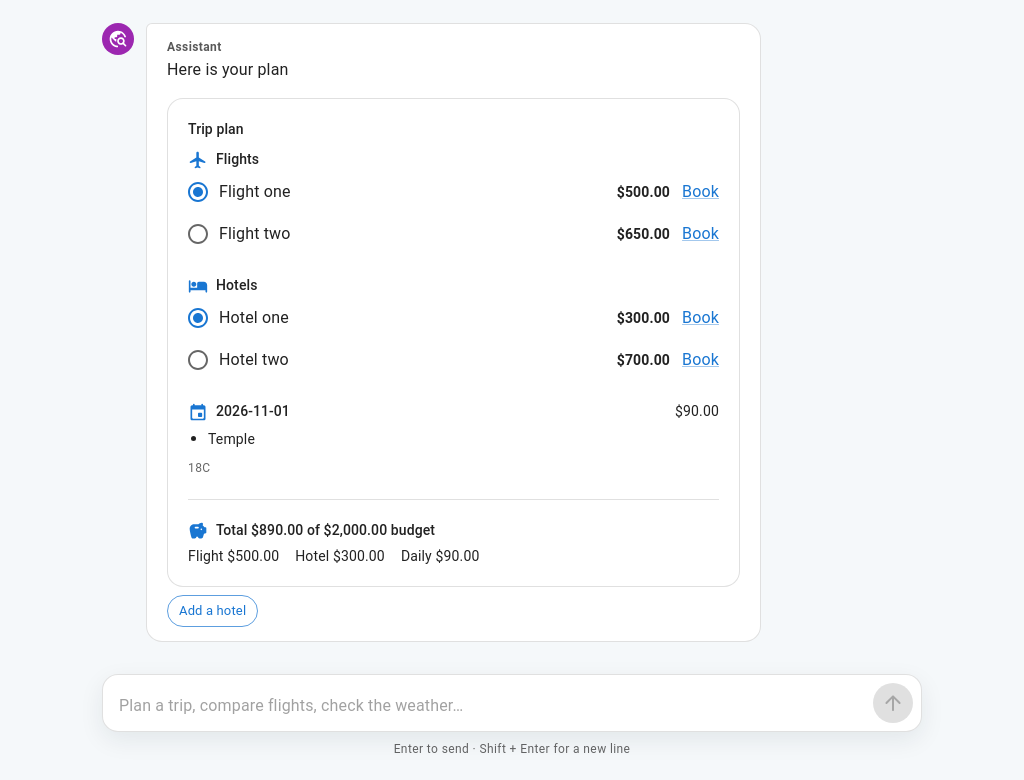
Test: ChatPage plan card › sends a plain pill without an action
(page scrolled)
Click the button "Add a hotel".
click(213, 611)  # box [167,595,258,627]
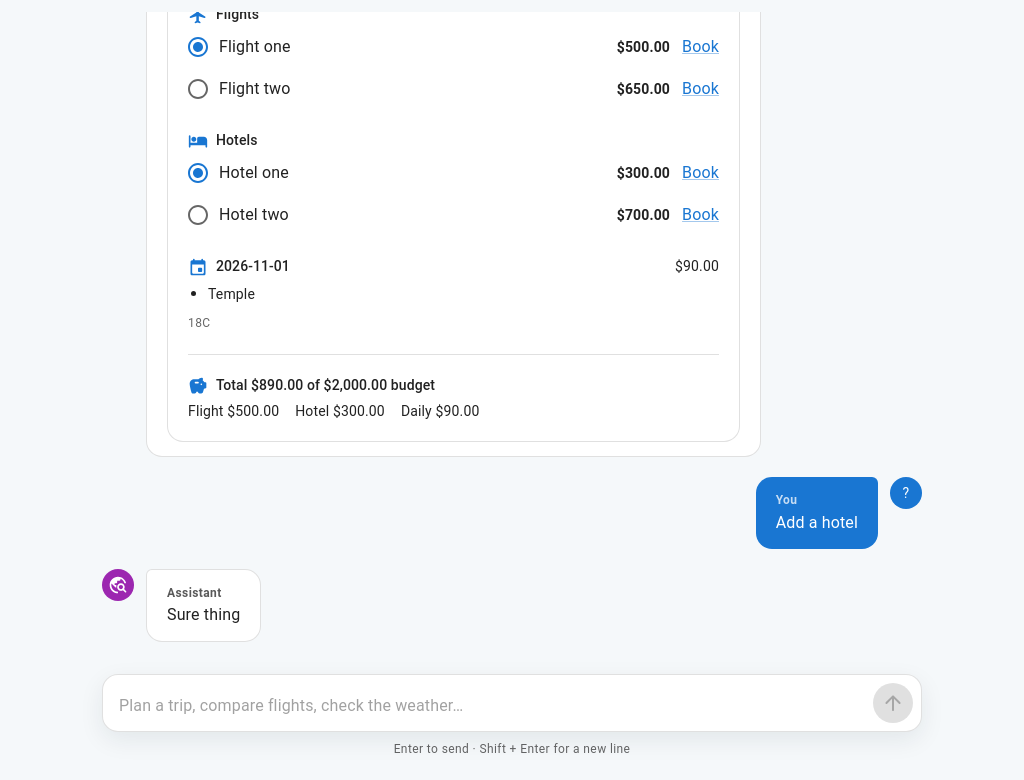
Check: the text "Sure thing" is shown, box [167,604,240,628]
